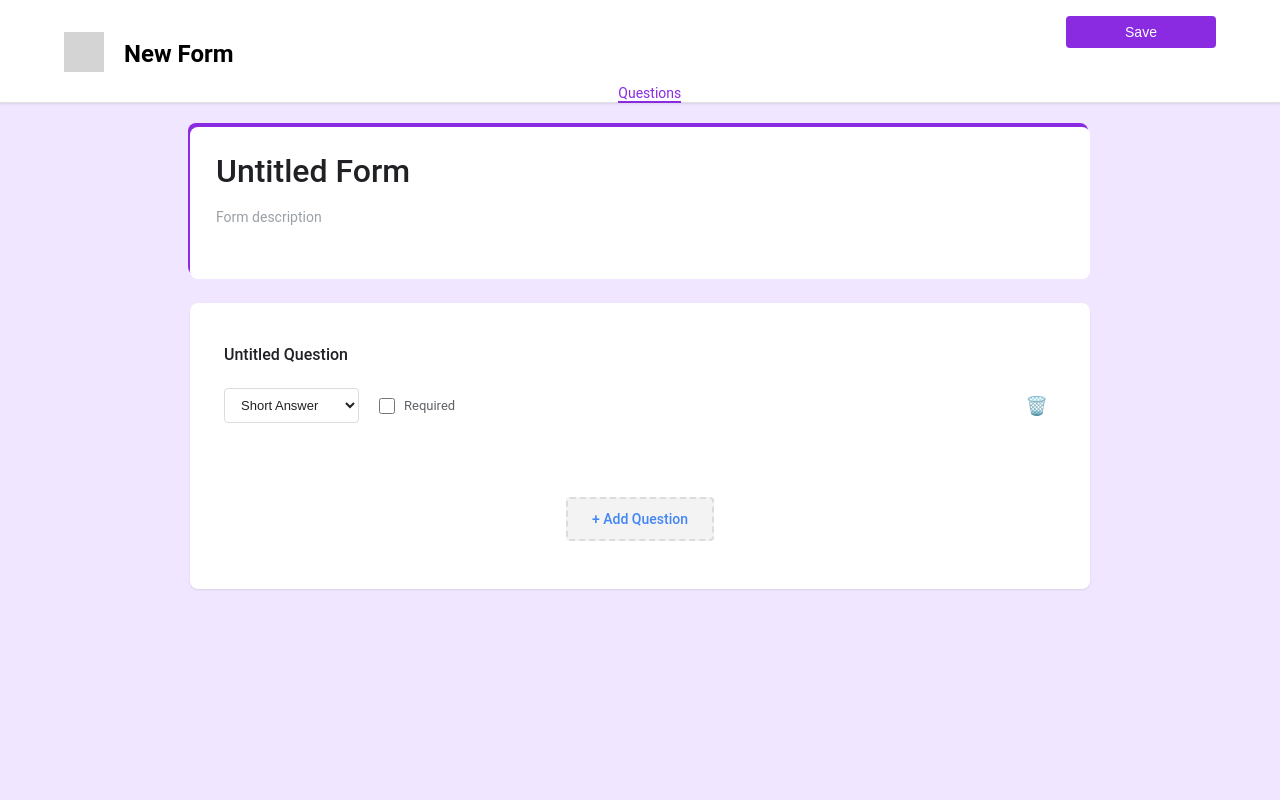
Scenario: FormBuilderPage (MUST HAVE) › adds a new question when Add Question button is clicked
Click the button "+ Add Question" at (640,519), box [566,497,714,541]
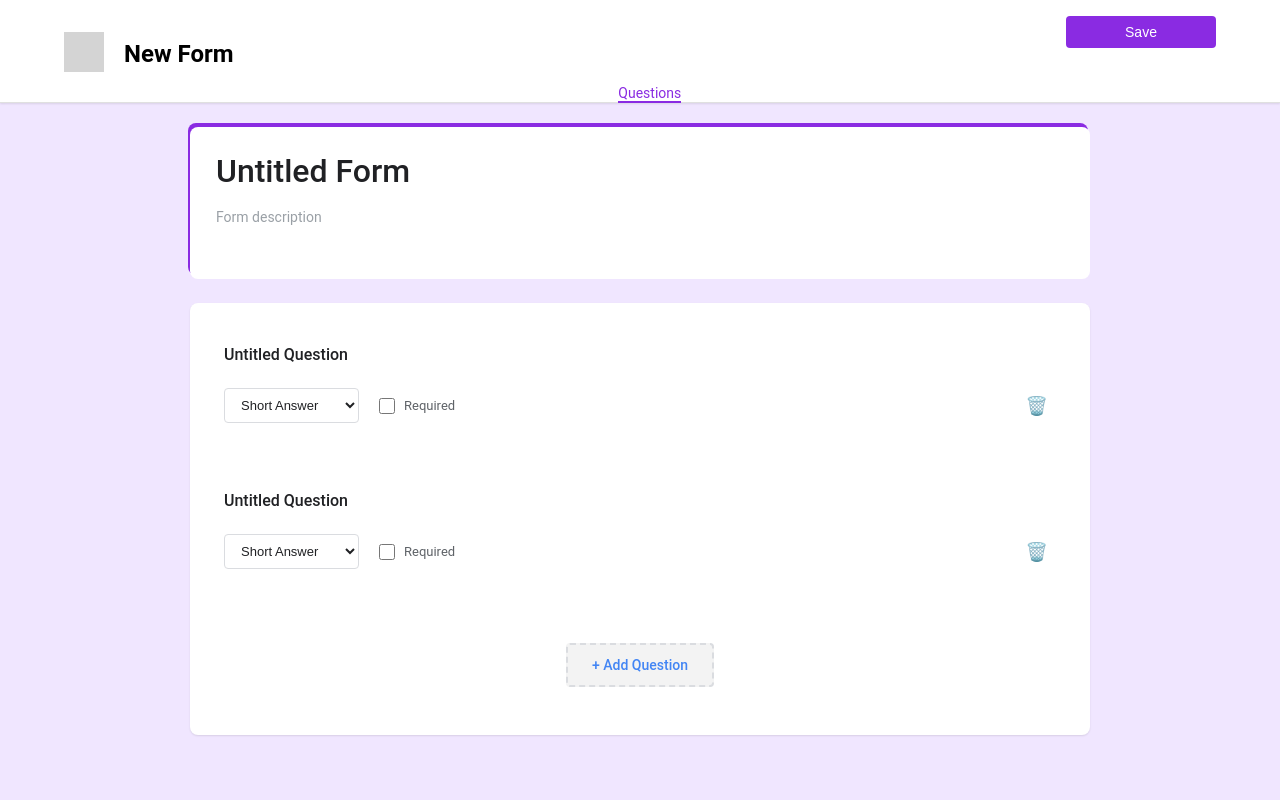
Check: the number of fields with placeholder "Question text" is 2, box [224,337,1056,372]; [224,483,1056,518]
